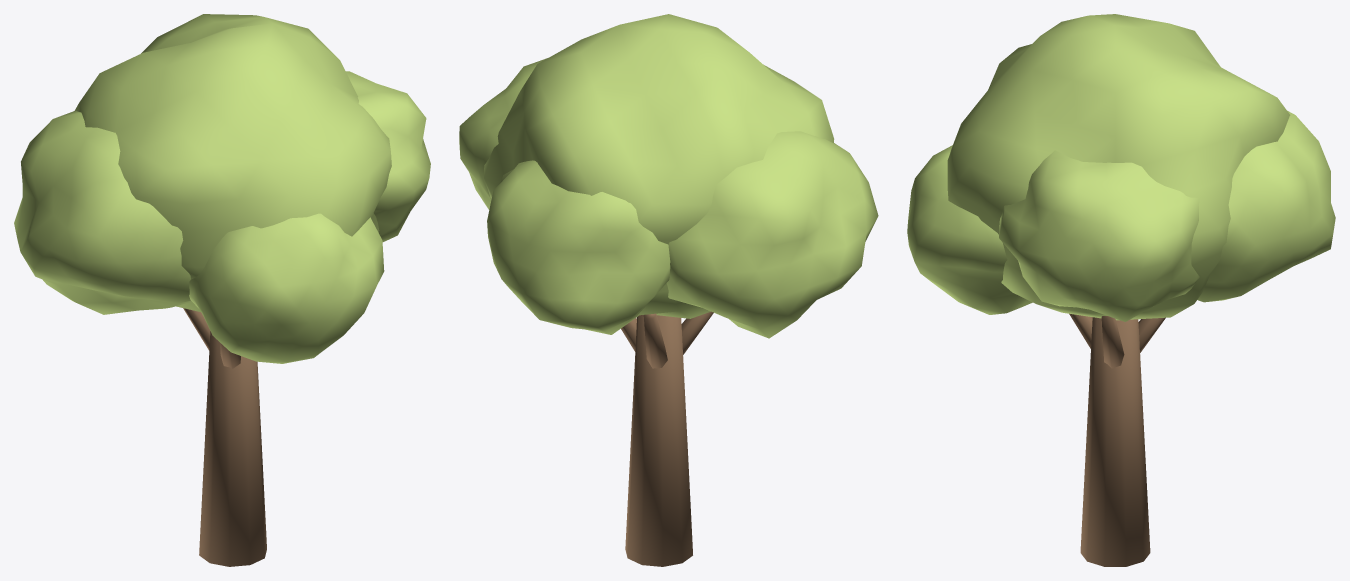
File: Tree_Round_2.fbx
3 views of the same model, side by side, from view 1: azimuth 30°, elevation 25°; view 2: azimuth 150°, elevation 25°; view 3: azimuth 270°, elevation 25° (orthographic).
Visible parts, largest first — view 1: Tree_Round_2; view 2: Tree_Round_2; view 3: Tree_Round_2.
Boxes of the visible parts, left/top/right/bottom form: Tree_Round_2: left=14, top=14, right=430, bottom=566; Tree_Round_2: left=459, top=14, right=878, bottom=566; Tree_Round_2: left=907, top=14, right=1335, bottom=566.
Bounding box in the file's own units: 4.13 × 5.33 × 3.92.
